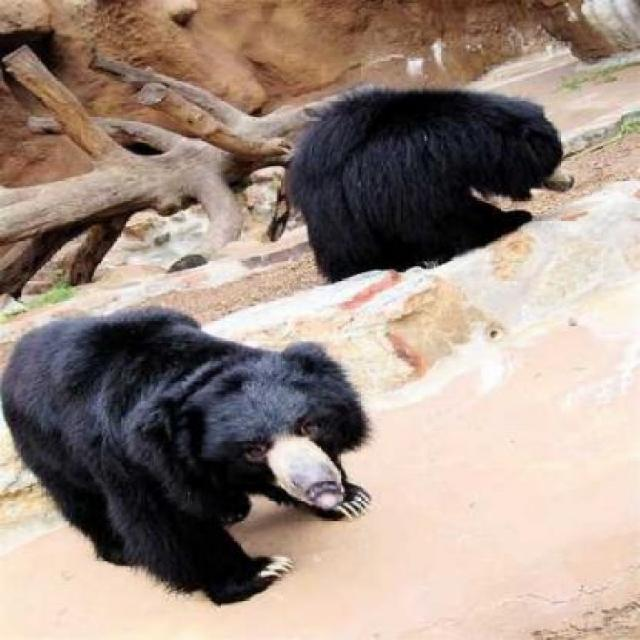Bear: (25, 293, 402, 625)
